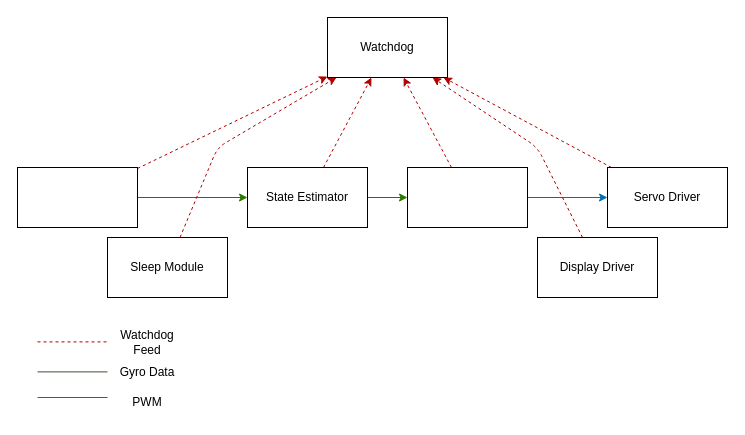
This 745x435 diagram has some shape labels left out. Here are the shapes that lost their labels. From the top down, the centre of each, then its label:
the point at 77,197: Gyroscope Driver
the point at 467,197: PID
